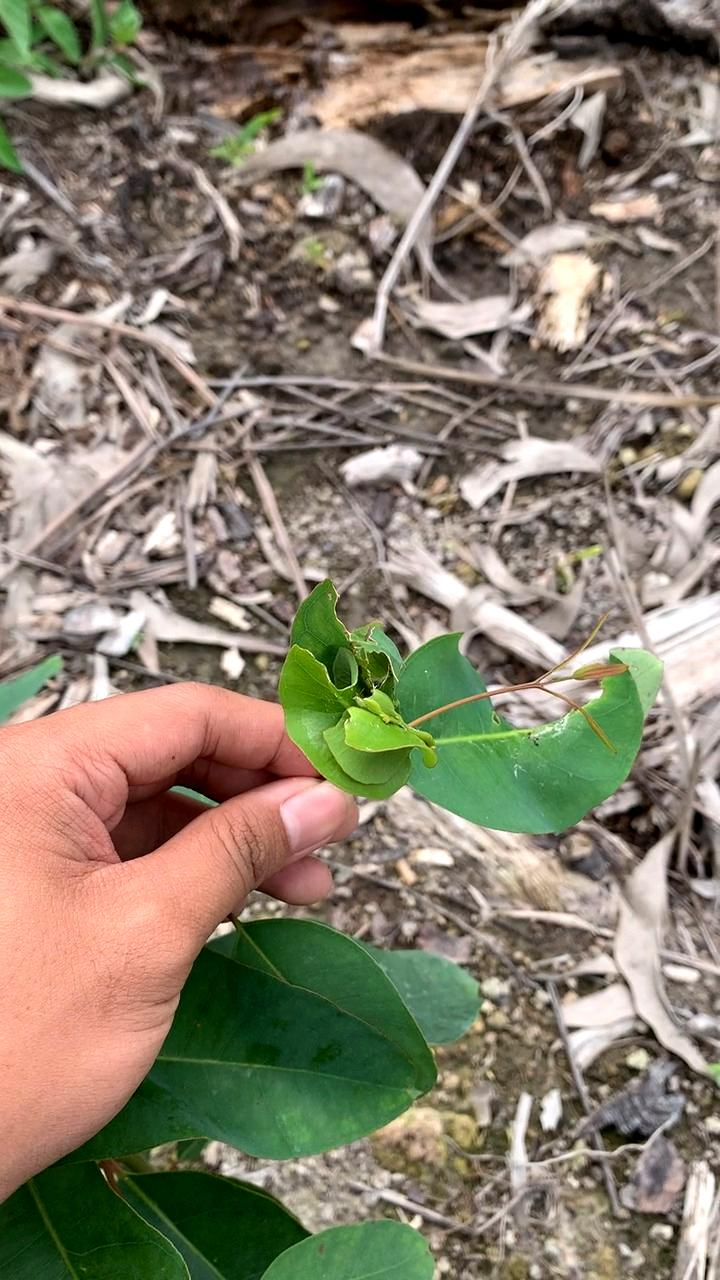Leaf Roller - Leaf: (286, 585, 451, 811)
